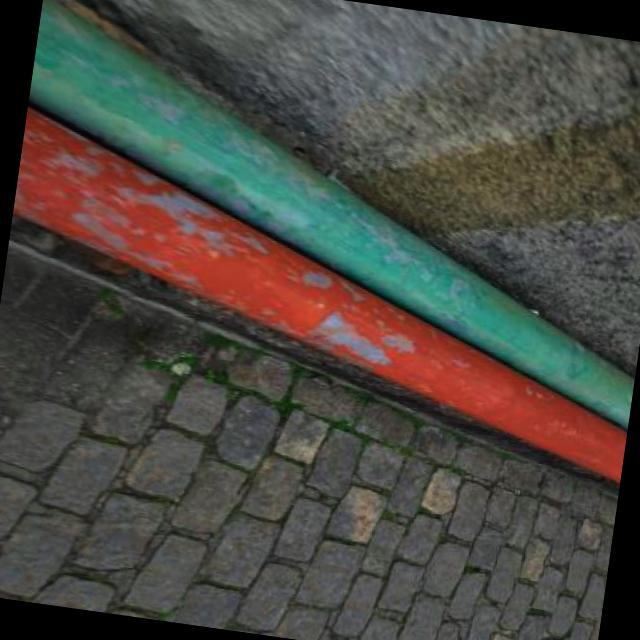gas: (28, 0, 635, 426), (13, 105, 627, 484)
